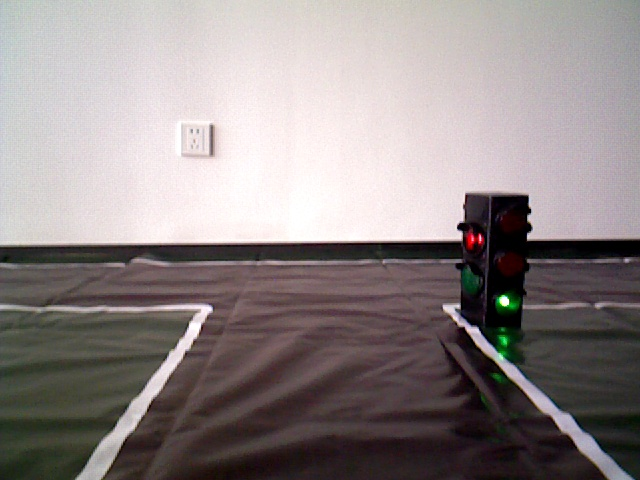green: (462, 196, 522, 317)
